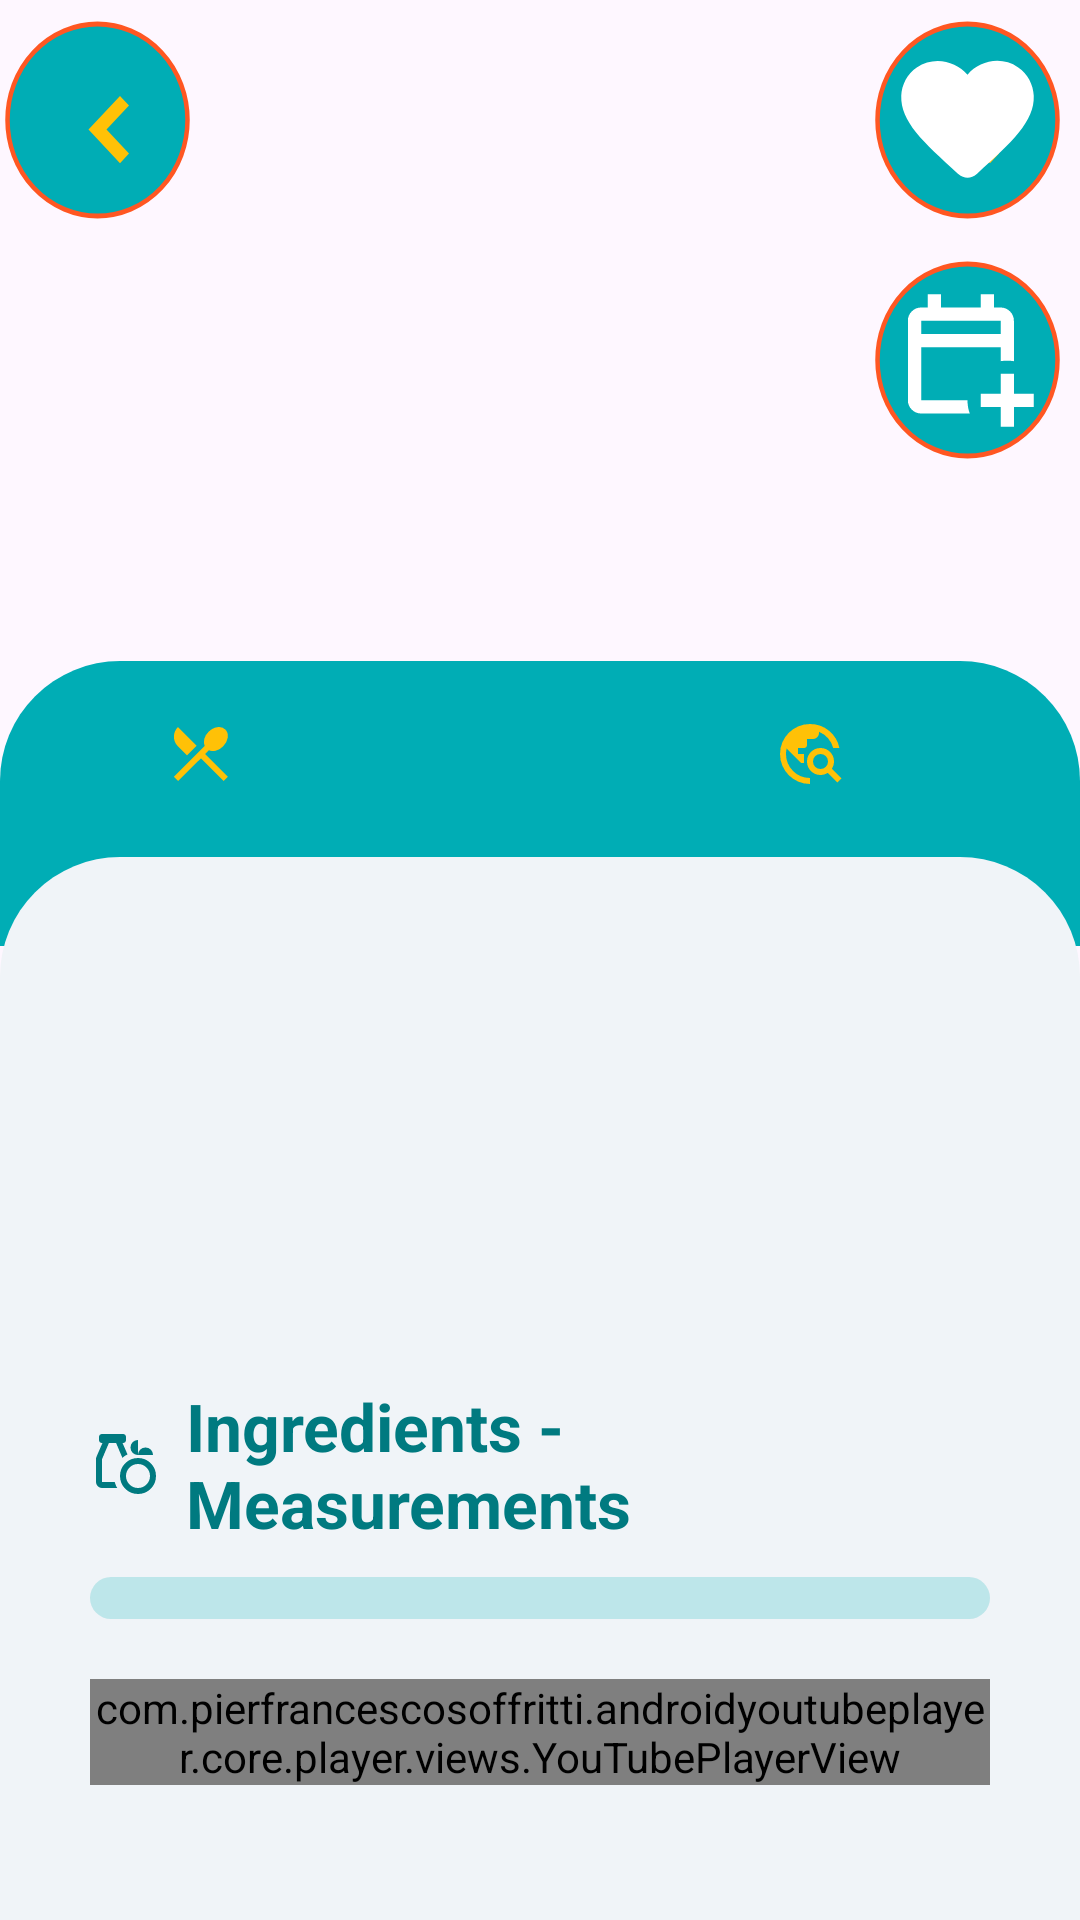

Where to tap for icons on this 1080w x 1920h app screen, as point (x, y):
back: point (97, 120)
calendar add: point (967, 360)
favorite: point (967, 120)
